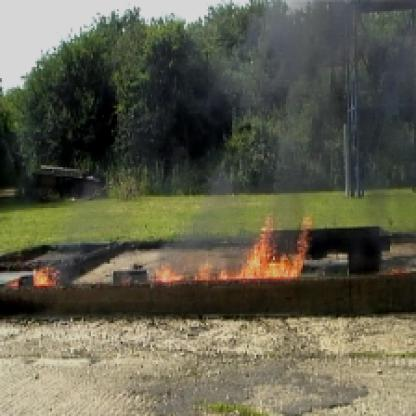Fire: (143, 206, 318, 290), (32, 262, 68, 288)
Smoke: (271, 5, 414, 107)
